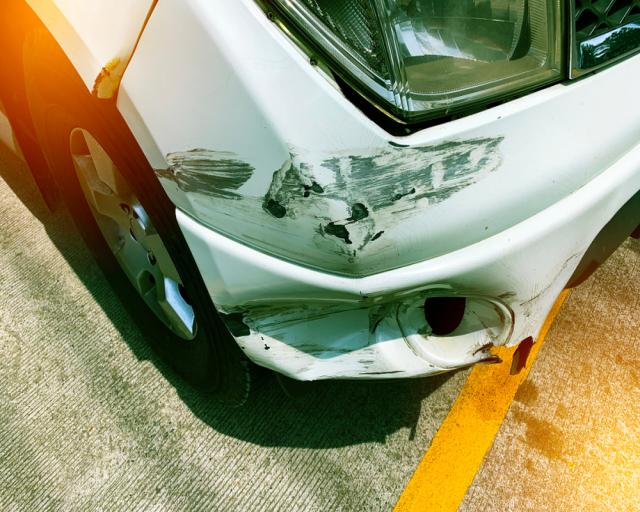dent: (220, 279, 520, 379)
scratch: (151, 132, 508, 269)
